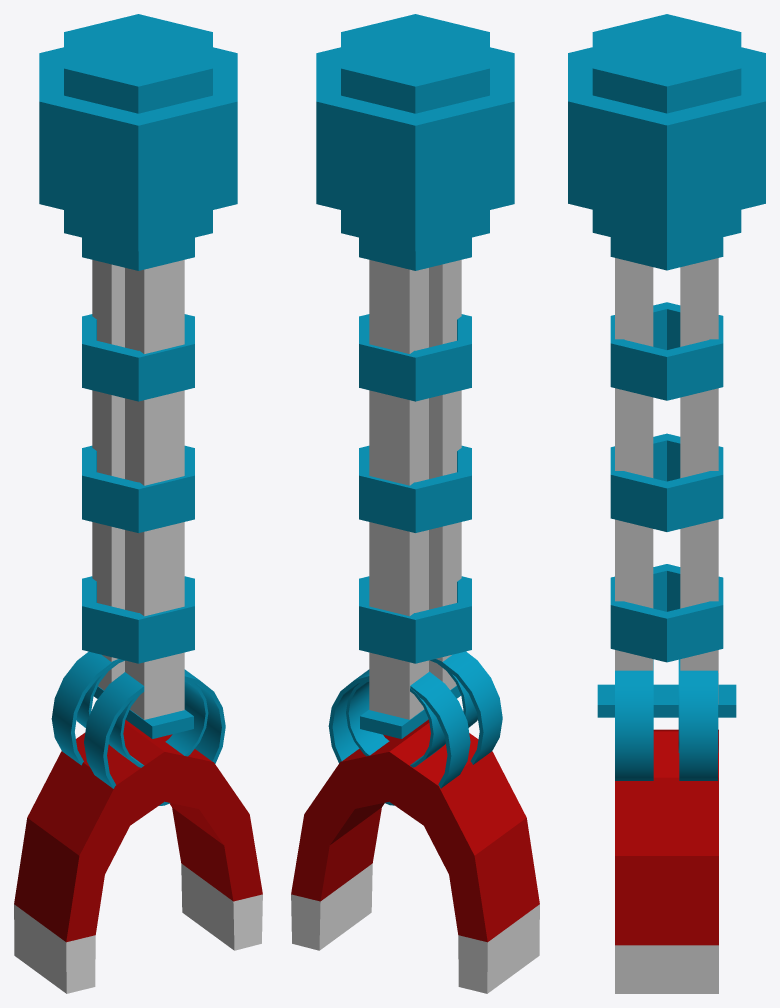
Rendered from PC Magnet.fbx.
The picture shows the model from 3 angles, left to right: view 1: azimuth 30°, elevation 25°; view 2: azimuth 150°, elevation 25°; view 3: azimuth 270°, elevation 25°; orthographic projection.
Parts seen in each view (by area): view 1: polySurface15; view 2: polySurface15; view 3: polySurface15.
Boxes of the visible parts, x1=… form: polySurface15: x1=14, y1=14, x2=262, y2=993; polySurface15: x1=291, y1=14, x2=539, y2=993; polySurface15: x1=568, y1=14, x2=765, y2=993.
Size of the model in its own units: 0.0354 by 0.1537 by 0.0306.
